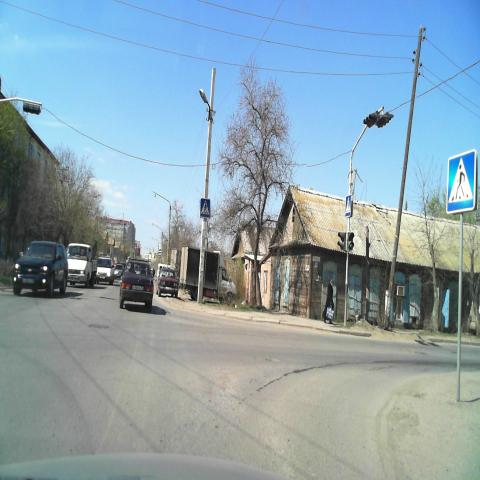5_19_1: (446, 149, 476, 213), (200, 198, 211, 218), (344, 194, 352, 218)
